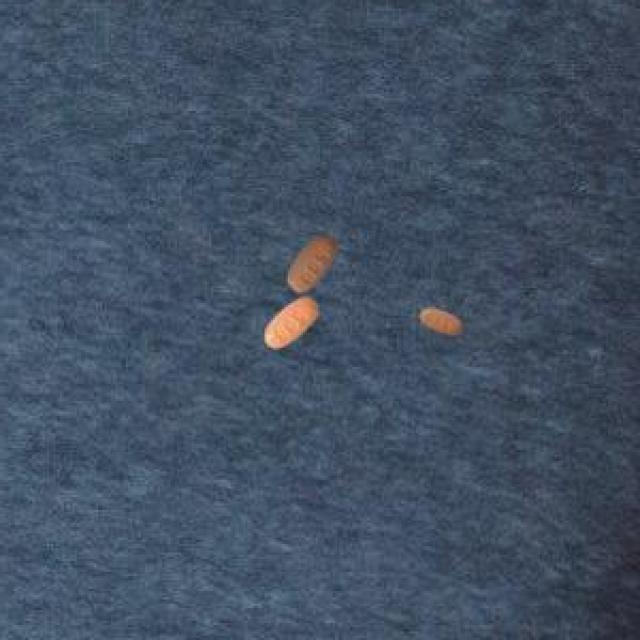Biogesic: (258, 230, 354, 367), (416, 287, 468, 349)
